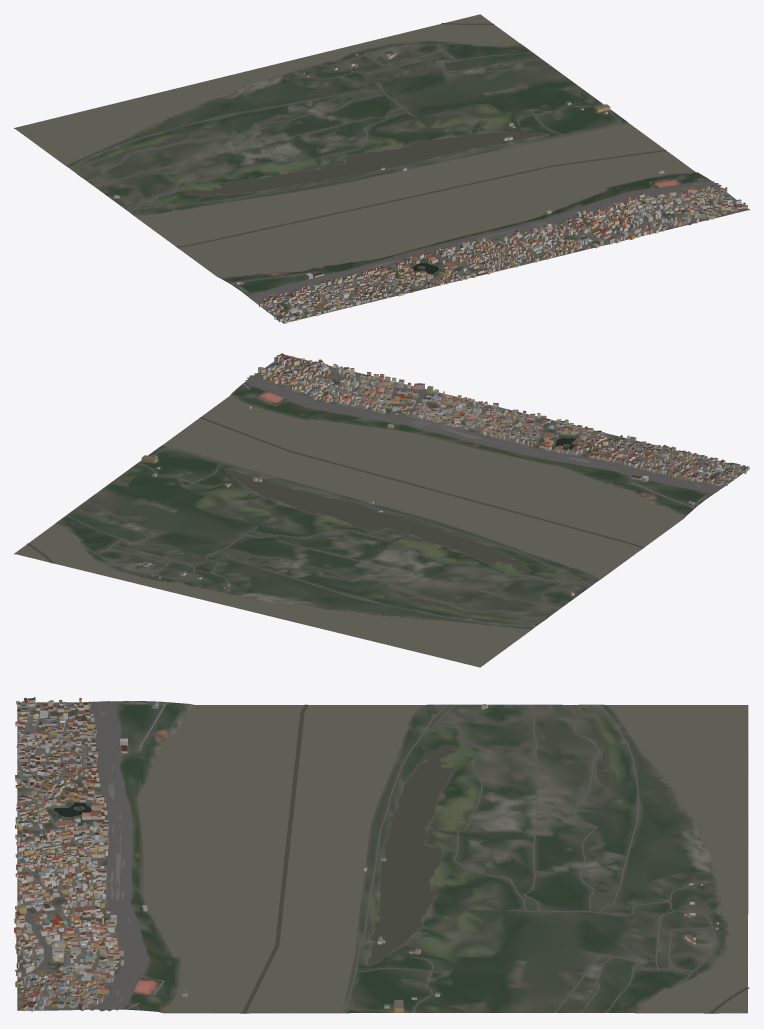
3 renders of one model, top to bottom at view 1: azimuth 30°, elevation 25°; view 2: azimuth 150°, elevation 25°; view 3: azimuth 270°, elevation 25°, orthographic. The views are drawn at different scales.
Visible parts, largest first — view 1: ground, water, buildings, roads; view 2: ground, water, buildings, roads; view 3: ground, water, buildings, roads.
Part boxes in pixels (x1,y1,x2,y2): ground: [14, 15, 749, 323]; water: [15, 14, 694, 277]; buildings: [114, 52, 747, 323]; roads: [69, 42, 739, 321]; ground: [14, 355, 749, 667]; water: [15, 396, 683, 666]; buildings: [137, 353, 749, 595]; roads: [54, 357, 742, 627]; ground: [17, 701, 748, 1013]; water: [54, 704, 749, 1013]; buildings: [14, 697, 718, 1012]; roads: [15, 701, 716, 1012].
Size of the model in its own units: 1418 by 25.94 by 1412.
